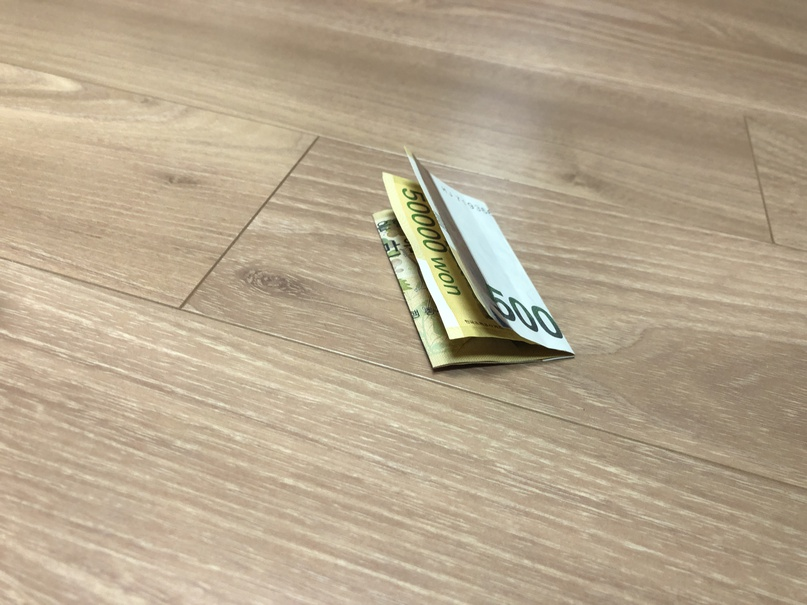50000won: (372, 146, 576, 370)
